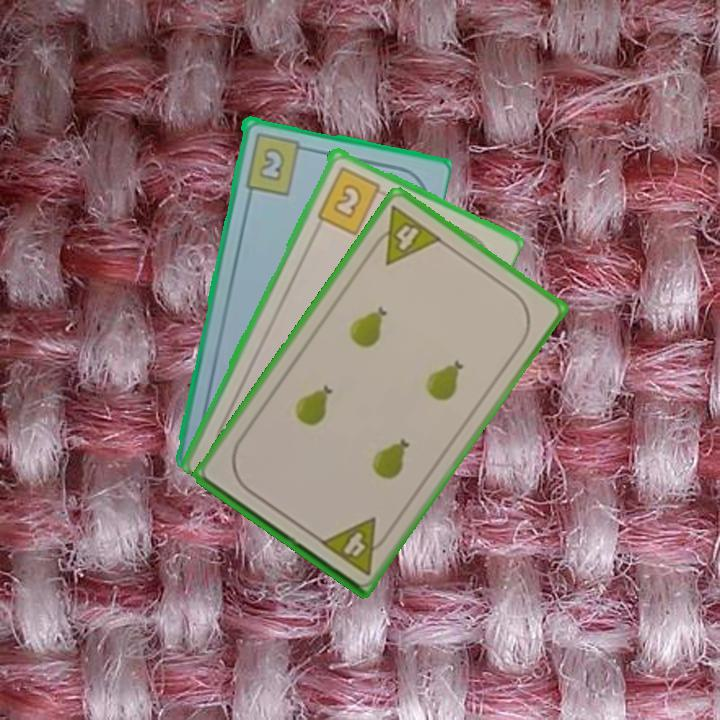2b: (313, 162, 391, 237), (241, 129, 312, 198)
4p: (365, 201, 445, 268), (316, 513, 394, 578)
